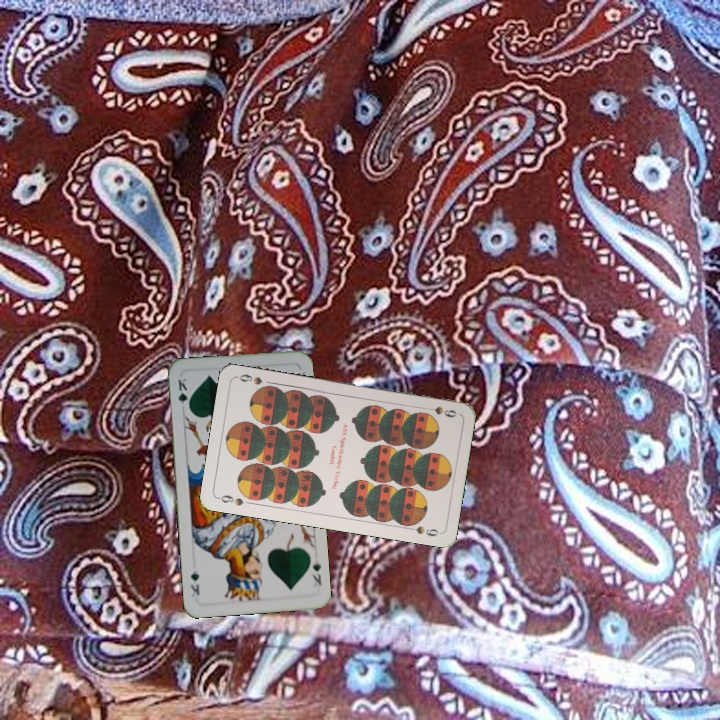GK: (174, 374, 192, 413), (307, 556, 324, 589)
S9: (419, 402, 459, 420), (214, 491, 246, 508)
